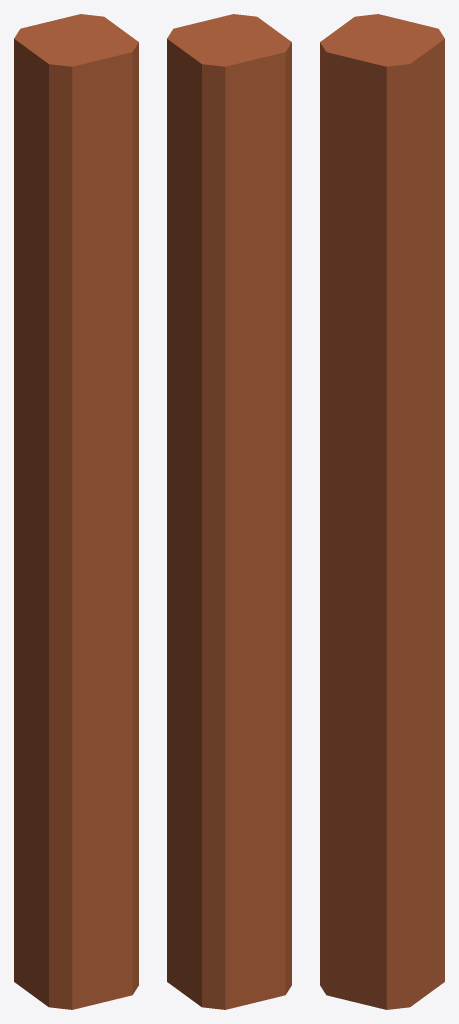
File: Mod_Frame_03.fbx
3 views of the same model, side by side, from view 1: azimuth 30°, elevation 25°; view 2: azimuth 210°, elevation 25°; view 3: azimuth 330°, elevation 25° (orthographic).
Visible parts, largest first — view 1: Mod_Frame_03; view 2: Mod_Frame_03; view 3: Mod_Frame_03.
Part boxes in pixels (x1,y1,x2,y2): Mod_Frame_03: [14, 14, 138, 1009]; Mod_Frame_03: [167, 14, 291, 1009]; Mod_Frame_03: [320, 14, 444, 1009].
Size of the model in its own units: 20 by 200 by 20.
